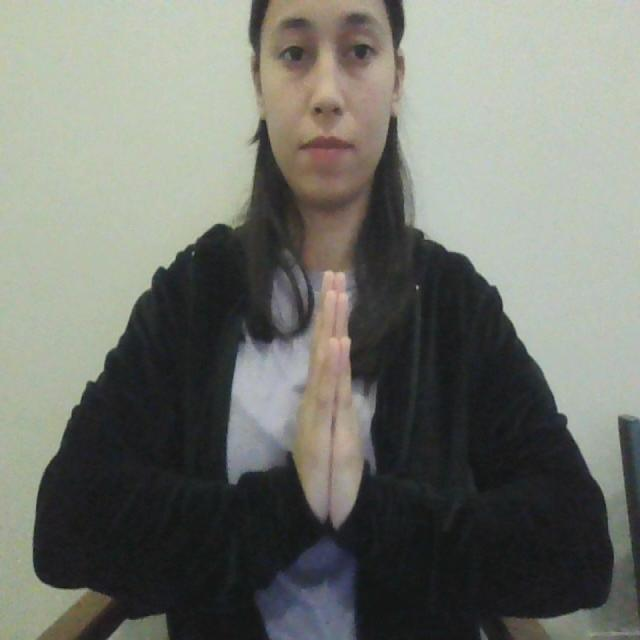Ozur-Dilemek: (288, 258, 373, 560)
